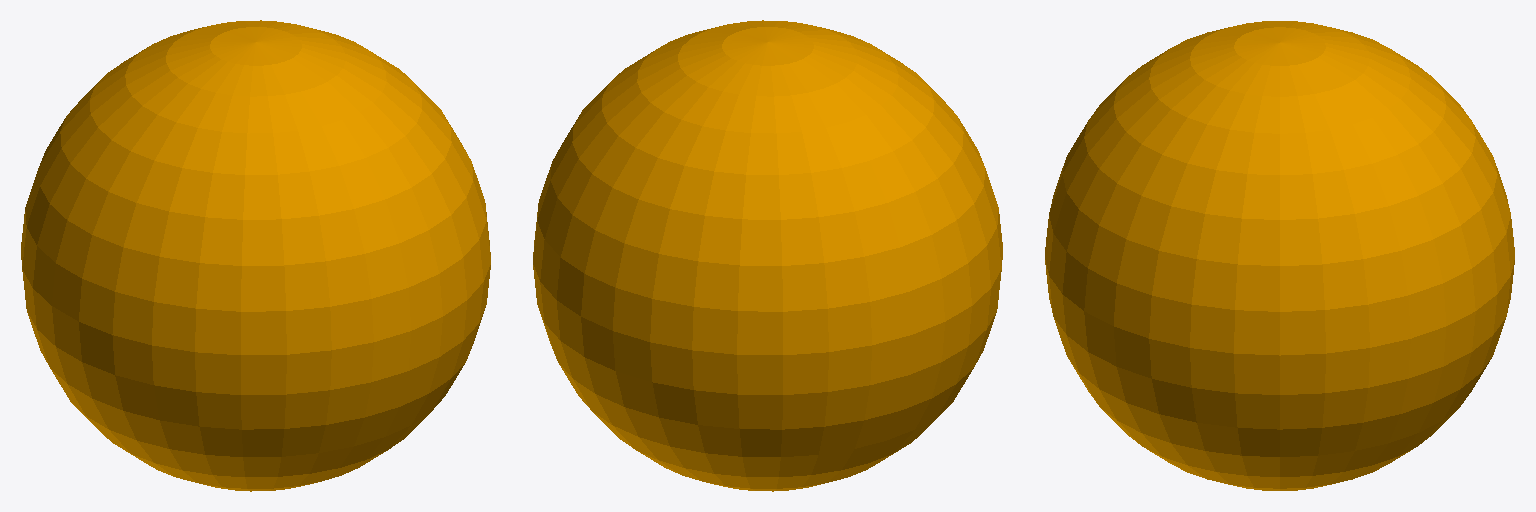
robot.urdf — virtual_hand:
<?xml version="1.0"?>

<robot name="virtual_hand">
  <link name="base_link">
    <inertial>
      <origin xyz="0.0 0.0 0.0" />
      <mass value="1.0" />
      <inertia  ixx="1.0" ixy="0.0"  ixz="0.0"  iyy="1.0"  iyz="0.0"  izz="1.0" />
    </inertial>
    <visual>
      <origin xyz="2 0 1"/>
      <geometry>
        <sphere radius="0.1" />
      </geometry>
    </visual>
    <collision>
      <origin xyz="2 0 1"/>
      <geometry>
        <sphere radius="0.1" />
      </geometry>
    </collision>
  </link>
  <gazebo reference="base_link">
    <material>Gazebo/Green</material>
	<turnGravityOff>true</turnGravityOff>
  </gazebo>
</robot>

--- Render facts (derived) ---
Views: 3 orthographic renders of the robot side by side, from view 1: azimuth 30°, elevation 25°; view 2: azimuth 150°, elevation 25°; view 3: azimuth 270°, elevation 25°.
Model virtual_hand with 1 links and 0 joints (none), rooted at base_link, posed all joints at 0.
Links seen in each view (by area): view 1: base_link; view 2: base_link; view 3: base_link.
Boxes of the visible links, bbox=[...] form: base_link: bbox=[21, 20, 490, 491]; base_link: bbox=[533, 20, 1002, 491]; base_link: bbox=[1045, 21, 1514, 490].
Size in the robot's own frame: 0.2 by 0.2 by 0.2 metres.
Geometry: primitives only (box / cylinder / sphere), no mesh files.